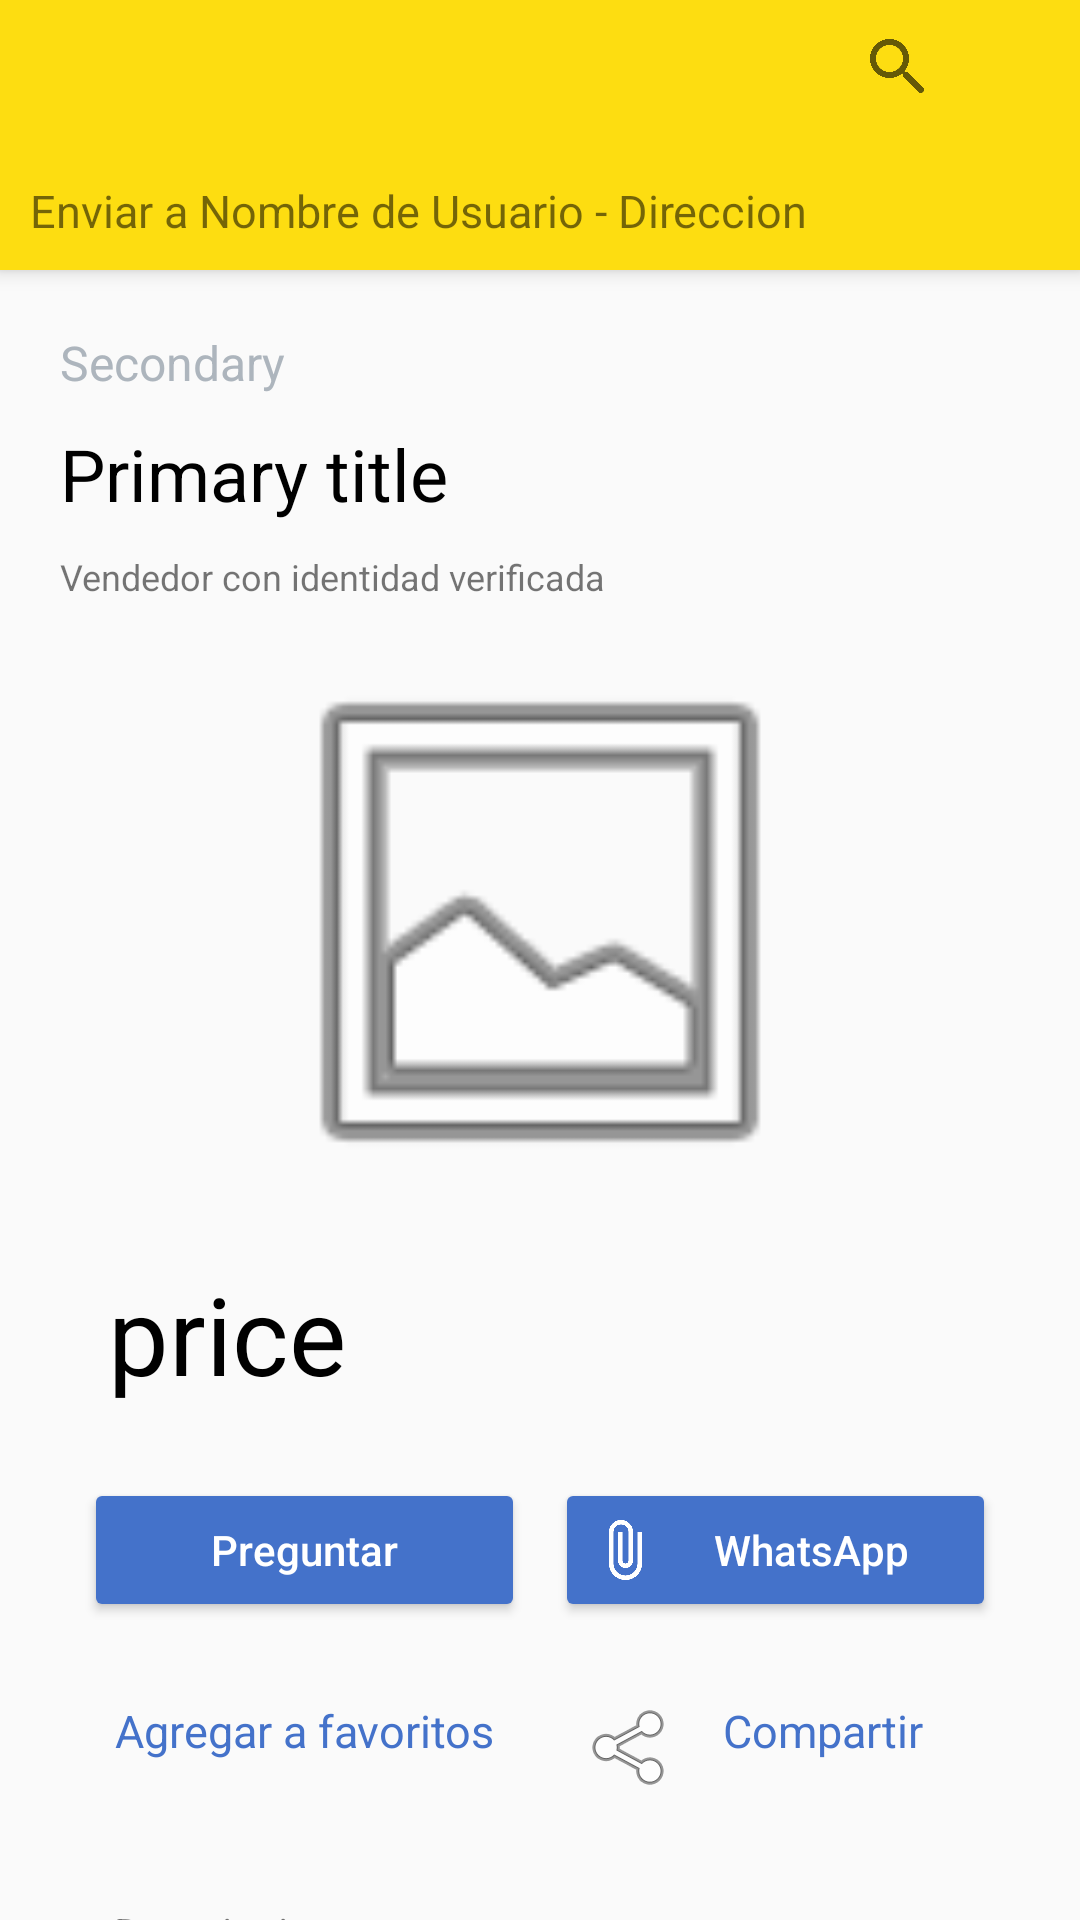

Icons on this 1080*1920 Android screen, each with its box as [x1,y1,x2,y2]:
search: [870,39,924,93]
